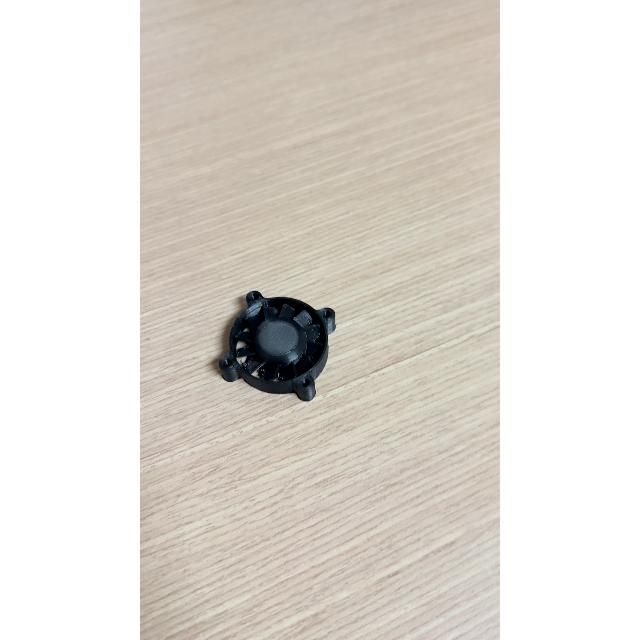Pieza_4: (184, 266, 362, 418)
